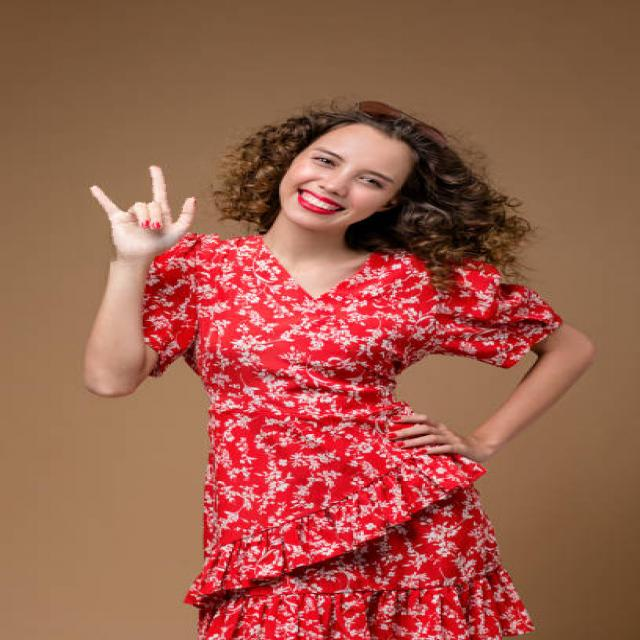I Love You: (70, 158, 217, 261)
